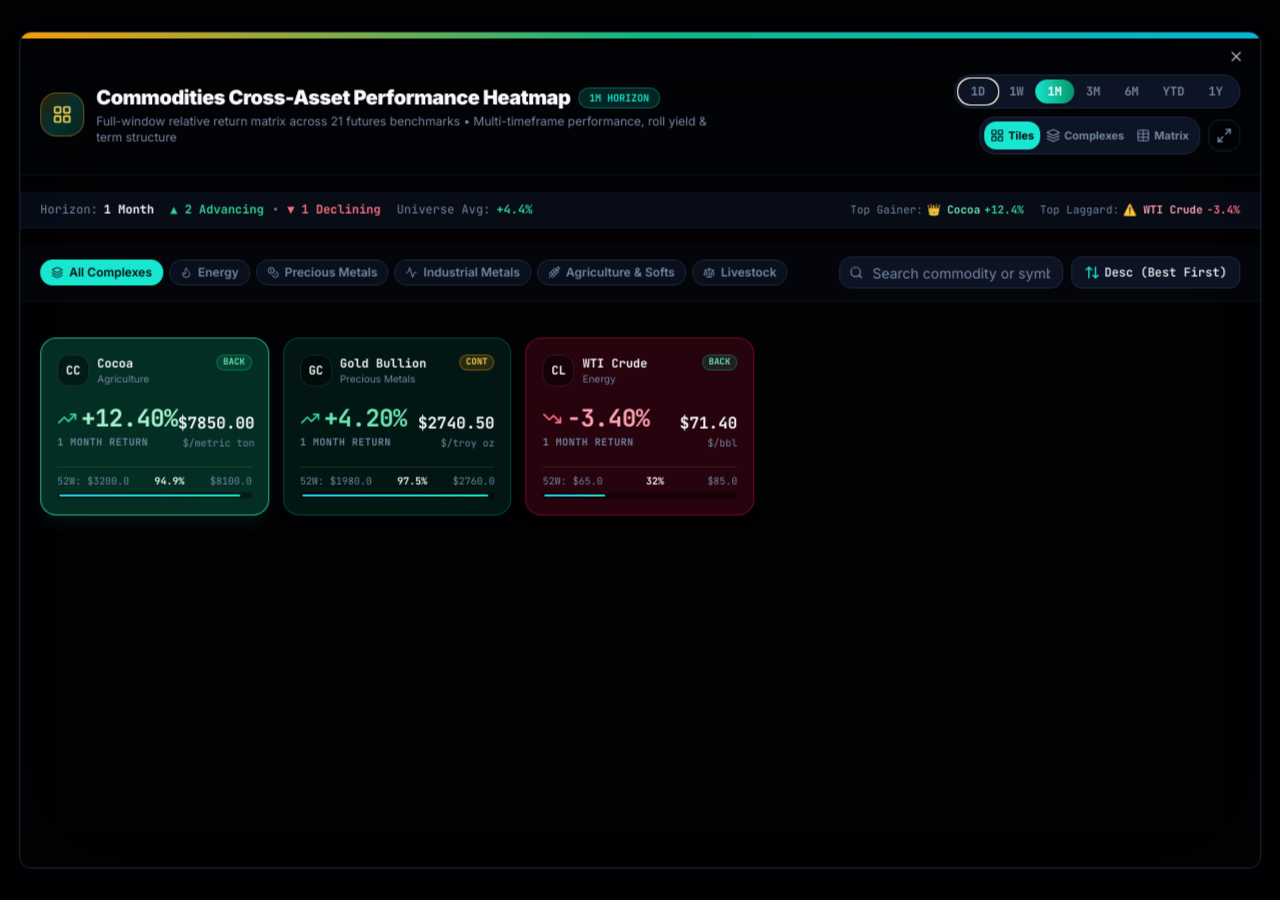
Test case: CommodityHeatmapModal › switches to Multi-Timeframe Matrix table view mode
# Click 'Matrix' view mode button
Click the button titled "Multi-Timeframe Matrix Table" at (1162, 136), box left=1130, top=122, right=1195, bottom=150
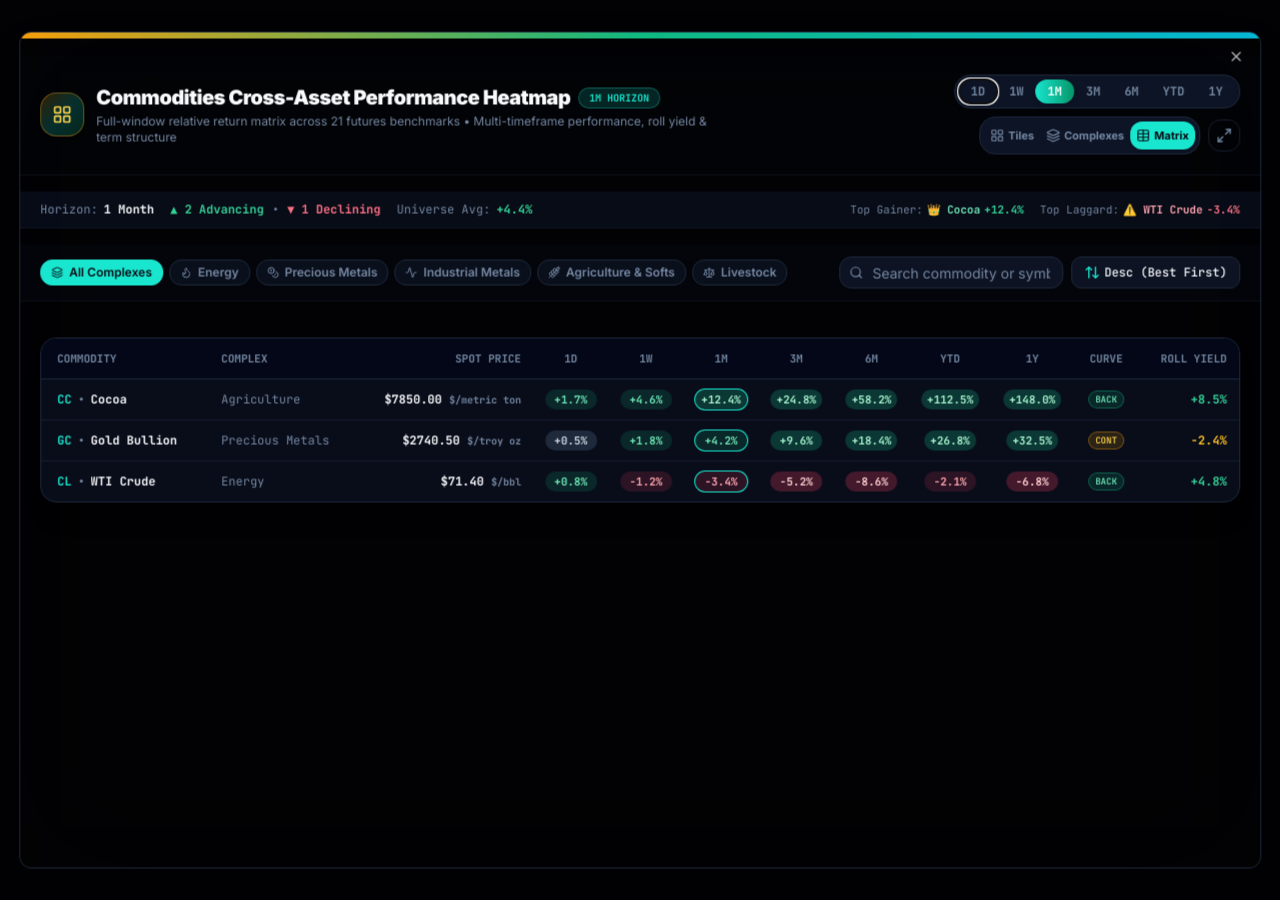
Expected: the column heading "Commodity" is shown, left=41, top=338, right=209, bottom=379
Expected: the column heading "Spot Price" is shown, left=355, top=338, right=533, bottom=379
Expected: the column heading "Roll Yield" is shown, left=1139, top=338, right=1239, bottom=379
